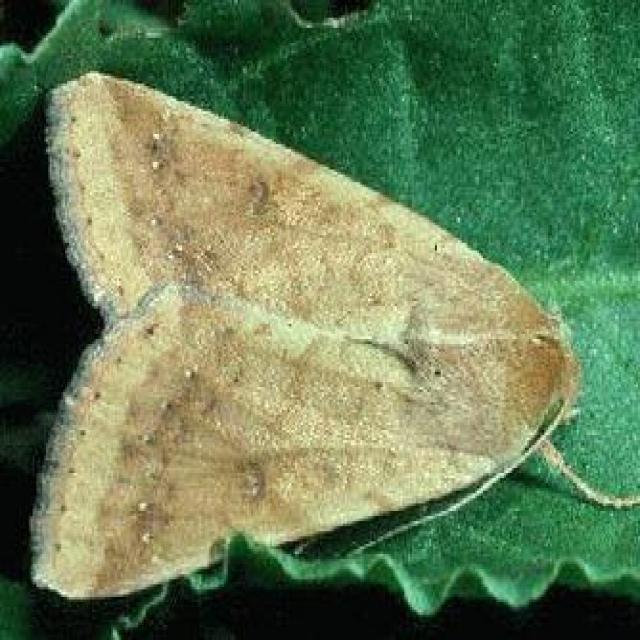BeetArmyWorm-Adult-: (21, 64, 590, 604)
